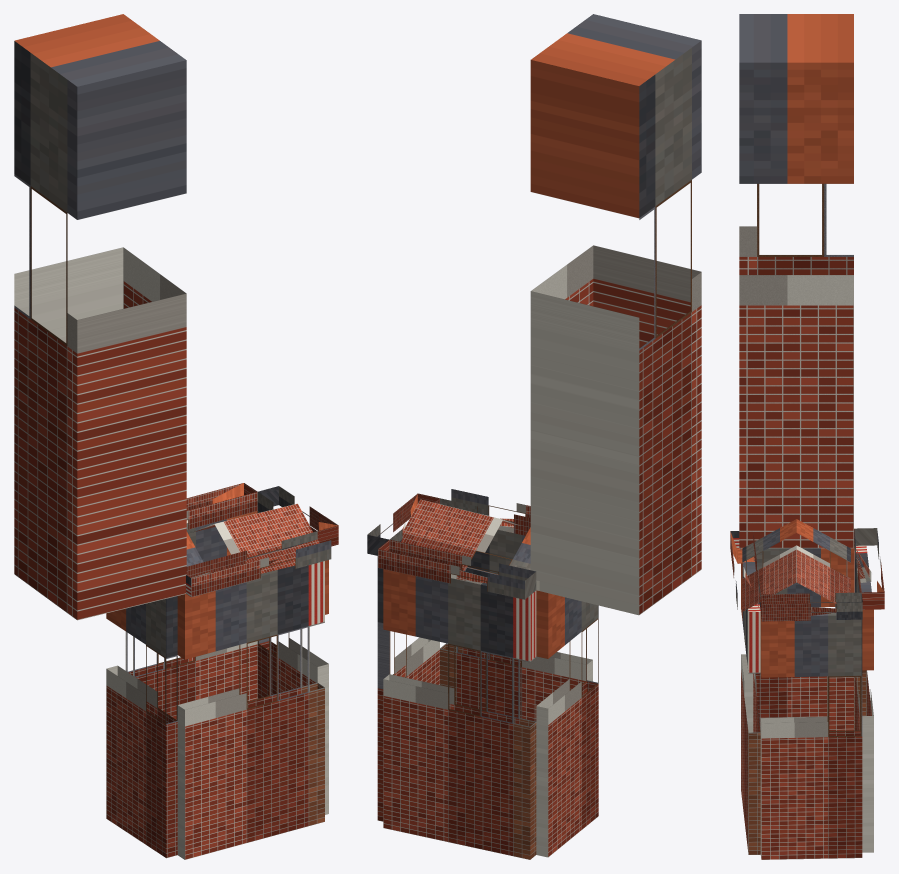
3 views of the same model, side by side, from view 1: azimuth 30°, elevation 25°; view 2: azimuth 150°, elevation 25°; view 3: azimuth 270°, elevation 25° (orthographic). The views are drawn at different scales.
Visible parts, largest first — view 1: 1107107794__chimney_0_xb, 1107107794__wall_3_xb, 1107107794__wall_0_xb, 1107107794__wall_1_xb, 1107107794_roof_-1_xb, 1107107794__wall_2_xb, 1107107794__cornice_3, 1107107794__cornice_1, 1107107794__cornice_2; view 2: 1107107794__chimney_0_xb, 1107107794__wall_1_xb, 1107107794__wall_0_xb, 1107107794__wall_3_xb, 1107107794_roof_1_xb, 1107107794__cornice_1, 1107107794__wall_2_xb, 1107107794__cornice_3, 1107107794__cornice_2; view 3: 1107107794__chimney_0_xb, 1107107794__wall_2_xb, 1107107794__wall_0_xb, 1107107794__wall_3_xb, 1107107794__wall_1_xb, 1107107794_roof_-1_xb, 1107107794_roof_1_xb, 1107107794__cornice_2, 1107107794__cornice_1, 1107107794__cornice_3.
Boxes of the visible parts, x1,y1,x2,y2 form: 1107107794__chimney_0_xb: [14, 14, 186, 620]; 1107107794__wall_3_xb: [177, 561, 324, 859]; 1107107794__wall_0_xb: [106, 596, 177, 858]; 1107107794__wall_1_xb: [125, 511, 257, 719]; 1107107794_roof_-1_xb: [186, 503, 319, 578]; 1107107794__wall_2_xb: [257, 511, 328, 814]; 1107107794__cornice_3: [186, 531, 331, 597]; 1107107794__cornice_1: [186, 483, 257, 529]; 1107107794__cornice_2: [257, 486, 338, 546]; 1107107794__chimney_0_xb: [530, 14, 701, 615]; 1107107794__wall_1_xb: [383, 569, 536, 859]; 1107107794__wall_0_xb: [536, 590, 598, 857]; 1107107794__wall_3_xb: [440, 525, 592, 721]; 1107107794_roof_1_xb: [401, 499, 530, 574]; 1107107794__cornice_1: [378, 539, 536, 599]; 1107107794__wall_2_xb: [377, 556, 439, 821]; 1107107794__cornice_3: [440, 489, 530, 535]; 1107107794__cornice_2: [367, 493, 439, 555]; 1107107794__chimney_0_xb: [739, 14, 853, 548]; 1107107794__wall_2_xb: [760, 613, 862, 859]; 1107107794__wall_0_xb: [755, 546, 854, 730]; 1107107794__wall_3_xb: [741, 548, 760, 854]; 1107107794__wall_1_xb: [854, 545, 873, 852]; 1107107794_roof_-1_xb: [742, 519, 796, 611]; 1107107794_roof_1_xb: [796, 519, 850, 603]; 1107107794__cornice_2: [760, 592, 862, 621]; 1107107794__cornice_1: [854, 528, 884, 609]; 1107107794__cornice_3: [730, 531, 760, 609].
Size of the model in its own units: 0.376 by 1.05 by 0.2014.
1 material, 1 textured.
